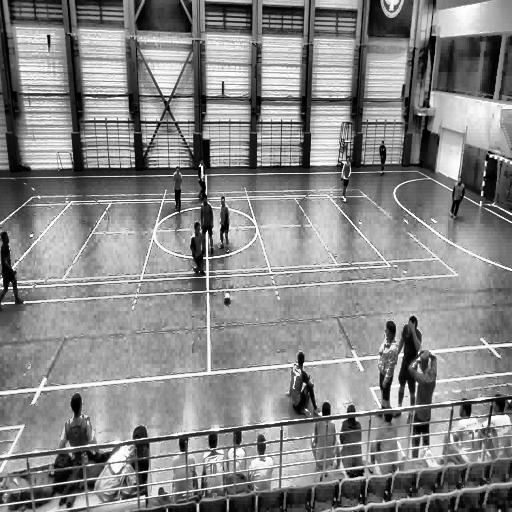ball: (224, 291, 231, 303)
player: (378, 321, 401, 413), (0, 228, 25, 308), (200, 193, 216, 258), (190, 222, 206, 277), (449, 175, 465, 220), (339, 153, 351, 204), (219, 196, 230, 250), (195, 156, 208, 200), (173, 166, 183, 211), (378, 140, 386, 176)
